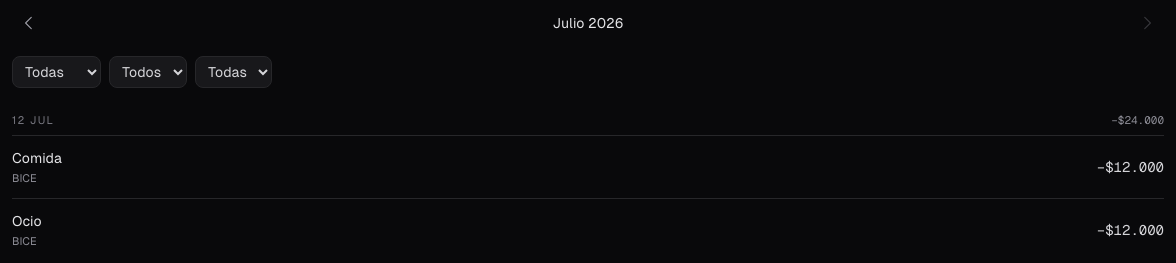
Test case: TransactionsTab › should_FilterByCategory_When_CategorySelected
Select "Ocio" in the dropdown named "Categoría" at (56, 72), box [12,56,101,88]
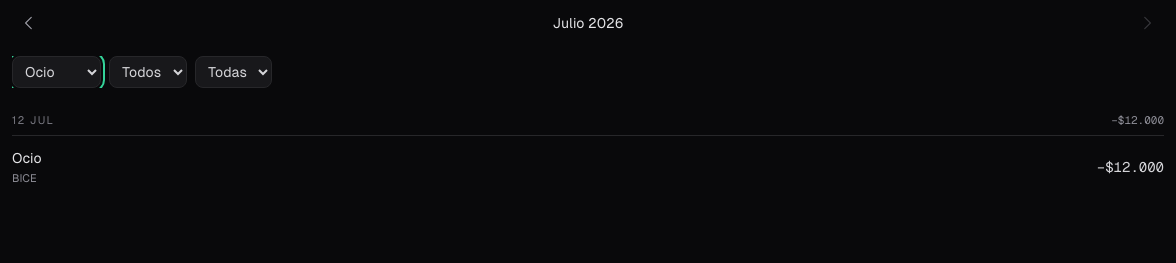
Expected: the text "Ocio" is shown, [12,148,42,168]
Expected: the number of elements with test id "tx-row" is 1, [12,134,1164,198]
